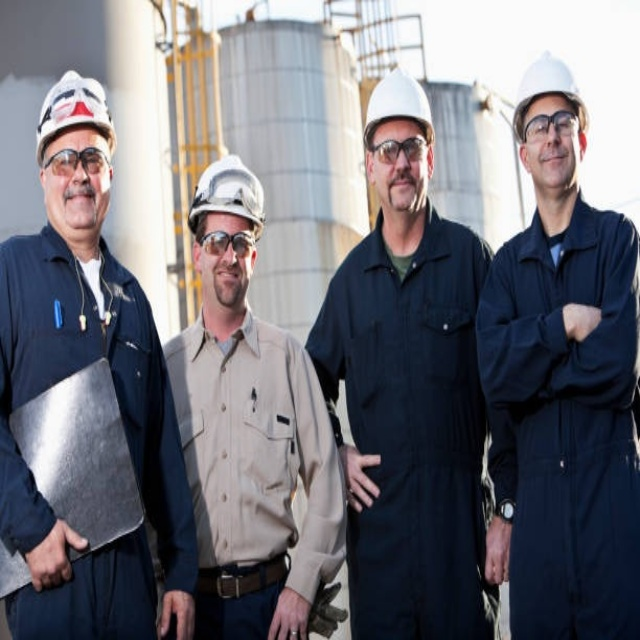Gafas: (43, 141, 109, 177), (198, 223, 255, 257), (523, 108, 581, 141), (371, 135, 430, 166)
Sin_guantes: (23, 516, 82, 590), (340, 441, 382, 510), (268, 585, 313, 638), (484, 512, 514, 588), (160, 590, 198, 637)
Sin_mascara: (61, 184, 97, 221), (539, 144, 571, 179), (213, 262, 241, 296), (388, 173, 417, 204)
